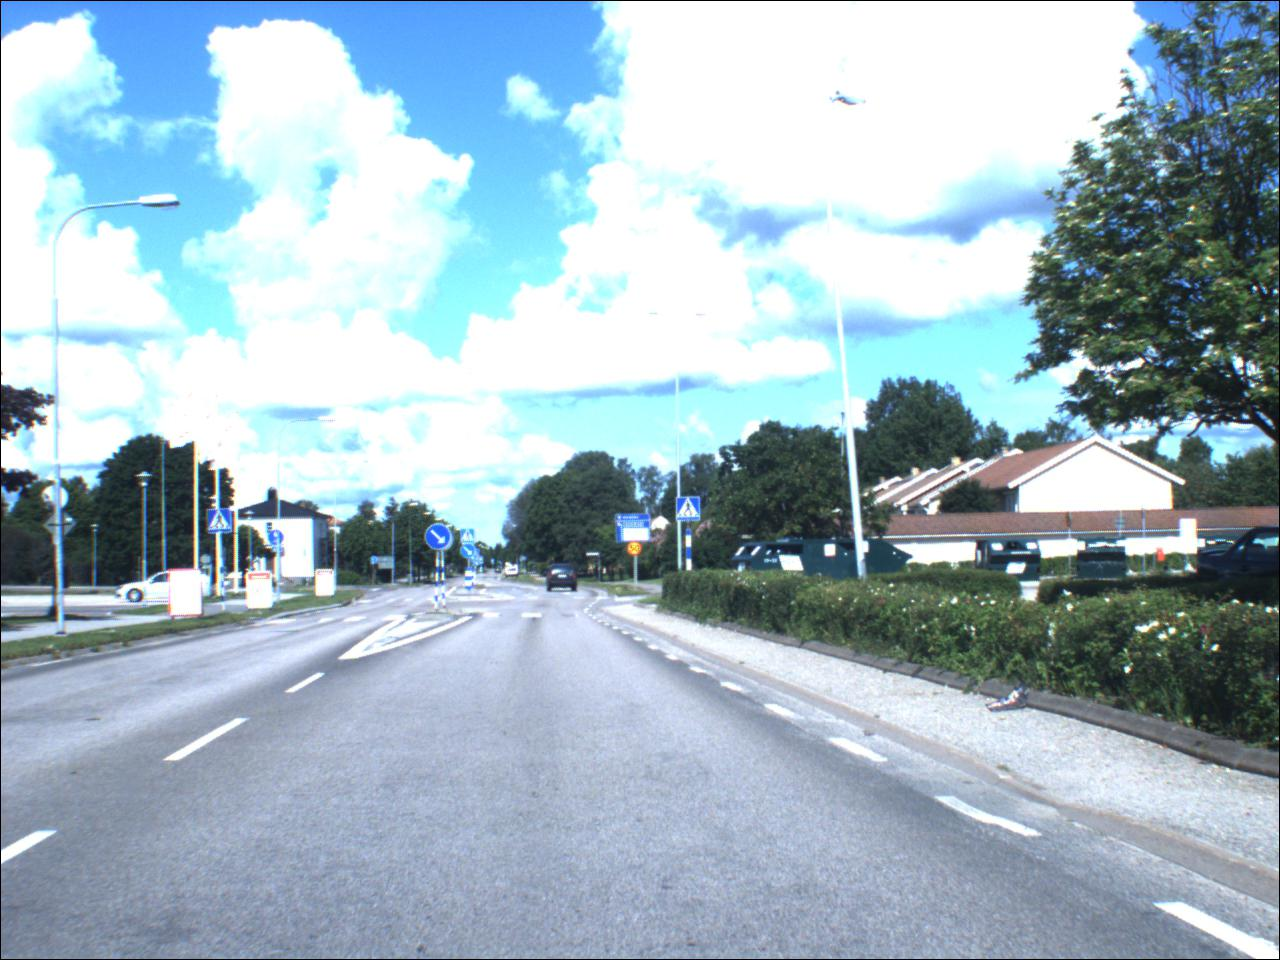50_SIGN: (630, 543, 646, 557)
PASS_RIGHT_SIDE: (426, 525, 455, 553), (463, 546, 478, 561)
PEDESTRIAN_CROSSING: (208, 510, 235, 537), (679, 499, 703, 524), (463, 530, 476, 547)
